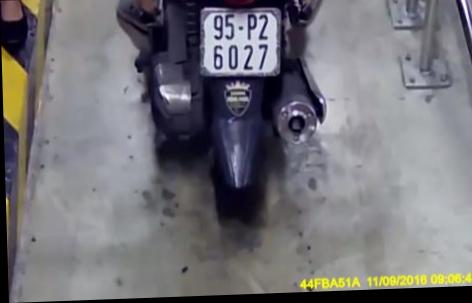LP: (196, 5, 283, 82)
